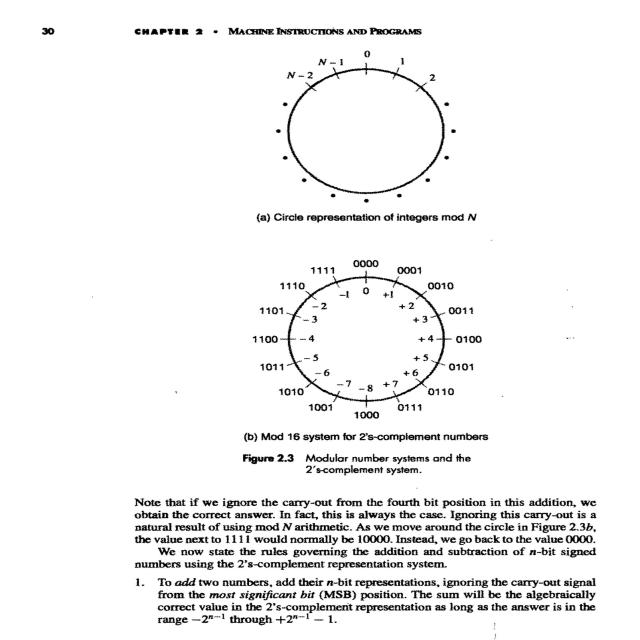diagram: (170, 42, 562, 490)
